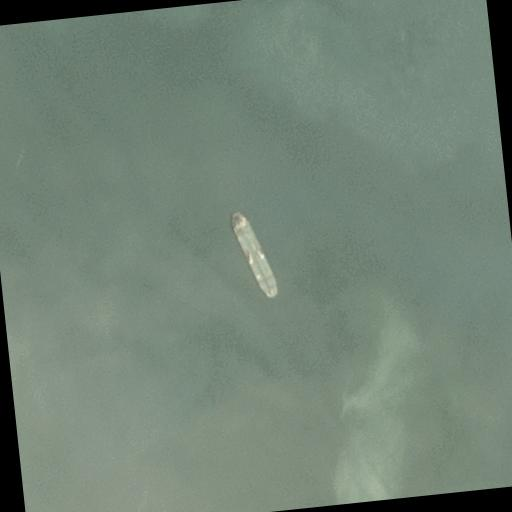ship: (230, 209, 282, 303)
